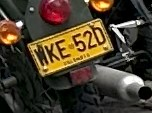number plate: (27, 18, 113, 76)
